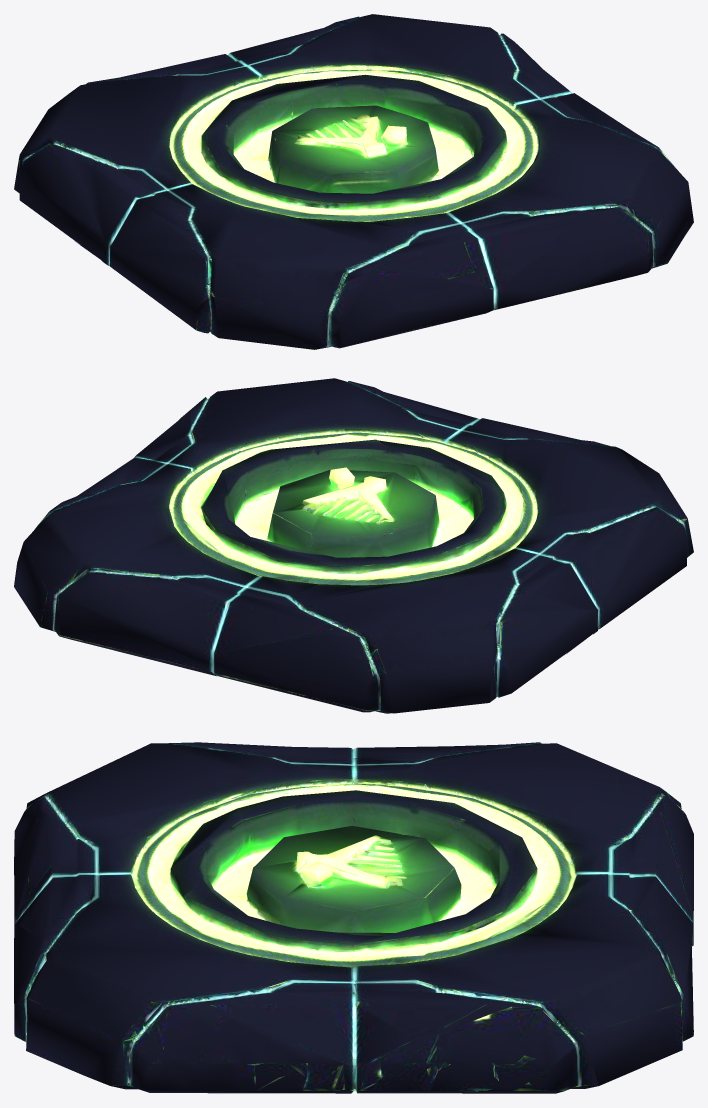
Rendered from power_pad.glb.
3 renders of one model, top to bottom at view 1: azimuth 30°, elevation 25°; view 2: azimuth 150°, elevation 25°; view 3: azimuth 270°, elevation 25°, orthographic. The views are drawn at different scales.
Parts seen in each view (by area): view 1: Mesh_0; view 2: Mesh_0; view 3: Mesh_0.
Boxes of the visible parts, <box> form: Mesh_0: <box>14,14,693,349</box>; Mesh_0: <box>14,378,693,713</box>; Mesh_0: <box>14,742,693,1093</box>.
Bounding box in the file's own units: 1.91 × 0.3321 × 1.91.
Materials: 1 (1 with a texture image).
